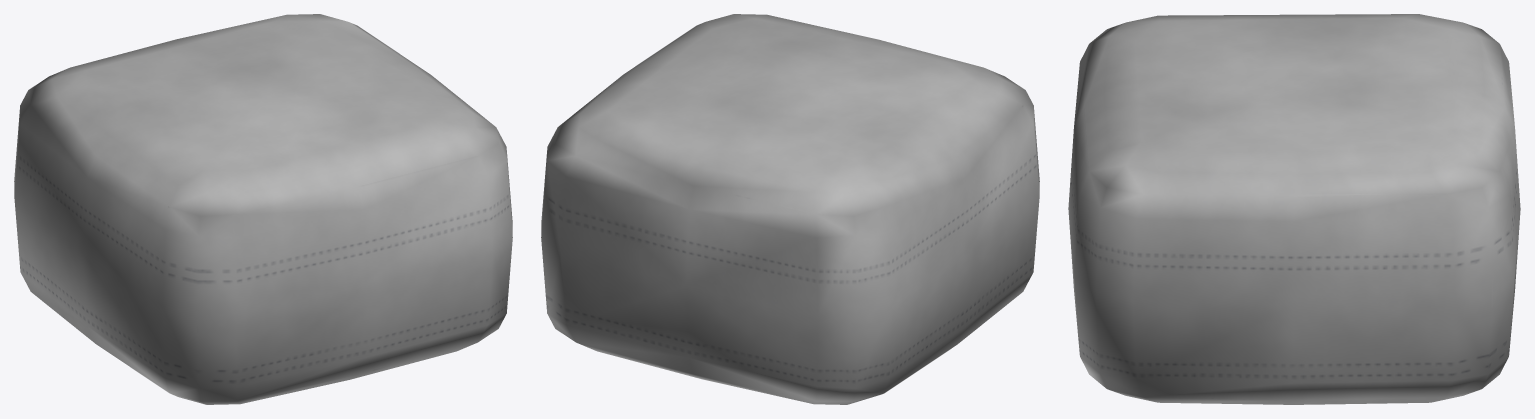
The model's file is LeftUpperArm_C1.fbx.
3 renders of one model, left to right at view 1: azimuth 30°, elevation 25°; view 2: azimuth 150°, elevation 25°; view 3: azimuth 270°, elevation 25°, orthographic. The views are drawn at different scales.
Parts seen in each view (by area): view 1: Civ_ChalecoObra_LeftUpperArm_C1; view 2: Civ_ChalecoObra_LeftUpperArm_C1; view 3: Civ_ChalecoObra_LeftUpperArm_C1.
Boxes of the visible parts, bbox=[...] form: Civ_ChalecoObra_LeftUpperArm_C1: bbox=[14, 14, 512, 404]; Civ_ChalecoObra_LeftUpperArm_C1: bbox=[541, 14, 1039, 404]; Civ_ChalecoObra_LeftUpperArm_C1: bbox=[1068, 14, 1520, 404].
Bounding box in the file's own units: 1.22 × 0.7543 × 1.22.
